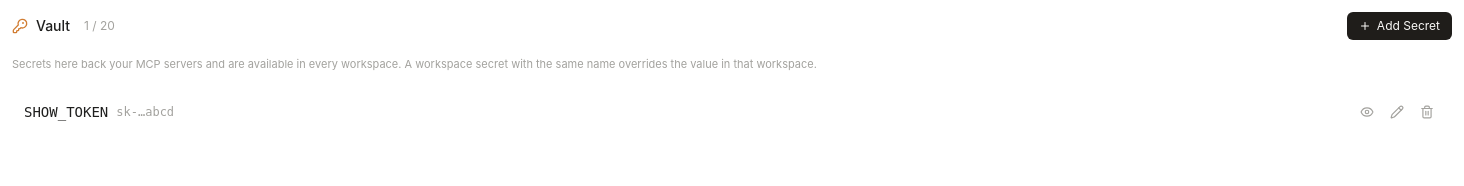
SecretsManager via the user vault adapter — reveal › surfaces a rejected reveal and keeps the value masked
Click the button titled "Reveal value". click: (1367, 112)
box: [1354,98,1380,124]
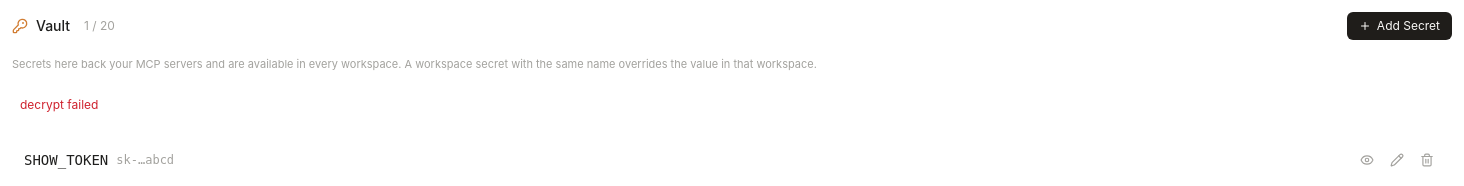
expect the text "sk-…abcd" is shown: met, box [116,152,174,168]
expect the text "decrypt failed" is shown: met, box [12,88,1452,120]
